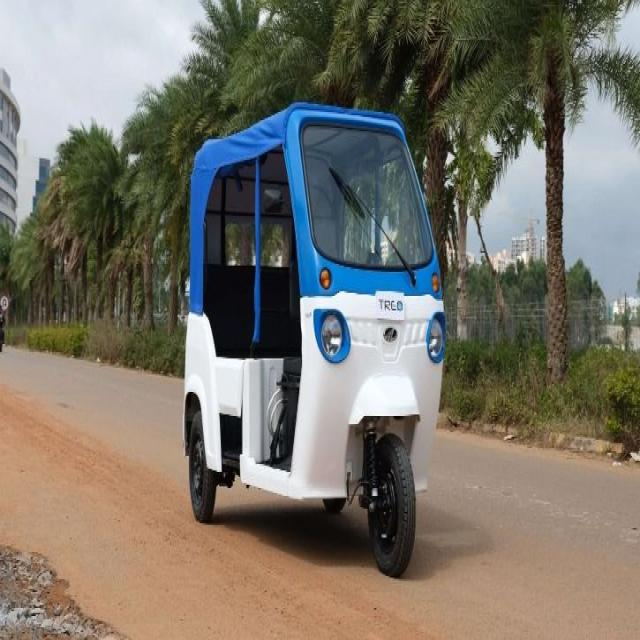autorickshaw: (181, 102, 446, 575)
